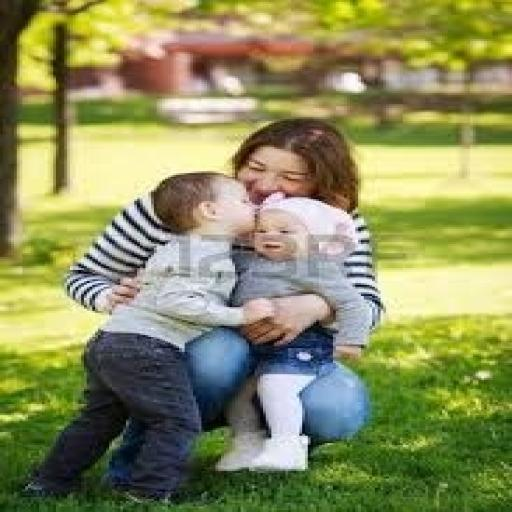hugging: (20, 116, 386, 504)
